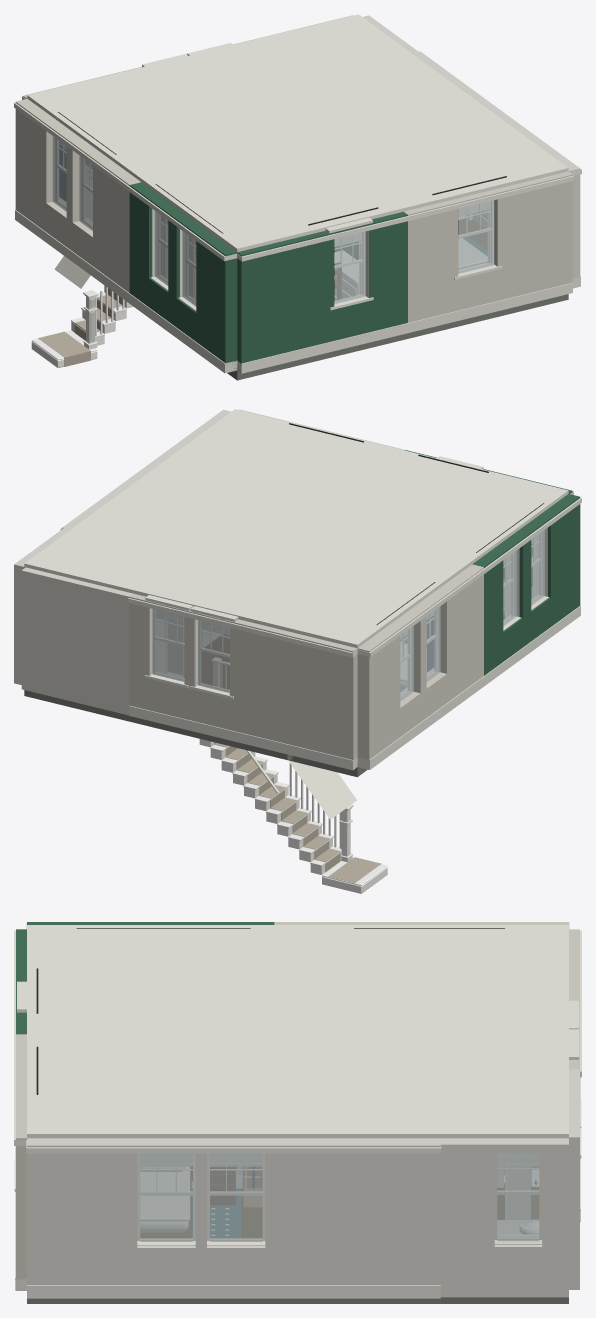
File: upstairs-two-baths.glb
3 views of the same model, one above another, from view 1: azimuth 30°, elevation 25°; view 2: azimuth 150°, elevation 25°; view 3: azimuth 270°, elevation 25° (orthographic). The views are drawn at different scales.
Parts seen in each view (by area): view 1: Upstairs/Continuous upstairs ceiling.001, Upstairs/Office gable green.015, Upstairs/Office gable primary.018, Upstairs/Office gable green.010, Upstairs/Office gable primary.015, Upstairs/Office gable primary.013, Upstairs/Side bedroom sash 1 glass.001, Upstairs/Front green bedroom.024, Upstairs/Office gable green.018, Upstairs/Front guest.030, Upstairs/south floor substrate.001, Upstairs/Front guest.024 (+41 smaller); view 2: Upstairs/Continuous upstairs ceiling.001, Upstairs/Driveway gable.024, Upstairs/Bathroom north.003, Upstairs/Bathroom north.002, Upstairs/Driveway gable.016, Upstairs/Front guest.024, Upstairs/Front guest.030, Upstairs/Driveway gable base.001, Upstairs/Landing sash 1 glass.001, Upstairs/Landing sash 0 glass.001, Upstairs/Front green bedroom.024, Upstairs/Stairwell sloping soffit.001 (+32 smaller); view 3: Upstairs/Continuous upstairs ceiling.001, Upstairs/Reno / Rear primary and ensuite.030, Upstairs/Reno / Rear primary and ensuite.024, Upstairs/Reno / Rear primary and ensuite.022, Upstairs/Reno / Rear primary and ensuite base.001, Upstairs/Rear sash 0 glass.001, Upstairs/Rear sash 1 glass.001, Upstairs/Reno / Rear primary and ensuite.016, Upstairs/Reno / Rear hall bath.015, Upstairs/Rear sash 2 glass.001, Upstairs/Reno / Rear primary and ensuite.023, Upstairs/Reno / Rear primary and ensuite crown.001 (+30 smaller).
Boxes of the visible parts, bbox=[...] form: Upstairs/Continuous upstairs ceiling.001: bbox=[27, 14, 568, 252]; Upstairs/Office gable green.015: bbox=[237, 239, 334, 319]; Upstairs/Office gable primary.018: bbox=[494, 181, 572, 256]; Upstairs/Office gable green.010: bbox=[237, 308, 334, 372]; Upstairs/Office gable primary.015: bbox=[408, 209, 458, 278]; Upstairs/Office gable primary.013: bbox=[497, 249, 572, 300]; Upstairs/Side bedroom sash 1 glass.001: bbox=[458, 200, 494, 273]; Upstairs/Front green bedroom.024: bbox=[196, 241, 237, 318]; Upstairs/Office gable green.018: bbox=[368, 221, 407, 287]; Upstairs/Front guest.030: bbox=[15, 109, 54, 187]; Upstairs/south floor substrate.001: bbox=[227, 294, 568, 380]; Upstairs/Front guest.024: bbox=[93, 165, 129, 248]; Upstairs/Continuous upstairs ceiling.001: bbox=[24, 409, 568, 648]; Upstairs/Driveway gable.024: bbox=[229, 628, 357, 715]; Upstairs/Bathroom north.003: bbox=[21, 567, 132, 660]; Upstairs/Bathroom north.002: bbox=[21, 635, 129, 715]; Upstairs/Driveway gable.016: bbox=[229, 697, 357, 769]; Upstairs/Front guest.024: bbox=[438, 574, 483, 658]; Upstairs/Front guest.030: bbox=[357, 636, 400, 715]; Upstairs/Driveway gable base.001: bbox=[129, 707, 357, 770]; Upstairs/Landing sash 1 glass.001: bbox=[152, 609, 183, 681]; Upstairs/Landing sash 0 glass.001: bbox=[198, 620, 229, 692]; Upstairs/Front green bedroom.024: bbox=[547, 504, 580, 582]; Upstairs/Stairwell sloping soffit.001: bbox=[288, 760, 356, 819]; Upstairs/Continuous upstairs ceiling.001: bbox=[27, 925, 568, 1138]; Upstairs/Reno / Rear primary and ensuite.030: bbox=[265, 1154, 440, 1228]; Upstairs/Reno / Rear primary and ensuite.024: bbox=[27, 1154, 137, 1228]; Upstairs/Reno / Rear primary and ensuite.022: bbox=[265, 1248, 440, 1285]; Upstairs/Reno / Rear primary and ensuite base.001: bbox=[27, 1287, 440, 1298]; Upstairs/Rear sash 0 glass.001: bbox=[210, 1154, 262, 1241]; Upstairs/Rear sash 1 glass.001: bbox=[140, 1154, 192, 1241]; Upstairs/Reno / Rear primary and ensuite.016: bbox=[27, 1248, 137, 1285]; Upstairs/Reno / Rear hall bath.015: bbox=[440, 1153, 494, 1227]; Upstairs/Rear sash 2 glass.001: bbox=[497, 1153, 539, 1241]; Upstairs/Reno / Rear primary and ensuite.023: bbox=[265, 1228, 440, 1247]; Upstairs/Reno / Rear primary and ensuite crown.001: bbox=[26, 1140, 441, 1153].
Size of the model in its own units: 7.6 by 5.16 by 8.09.
